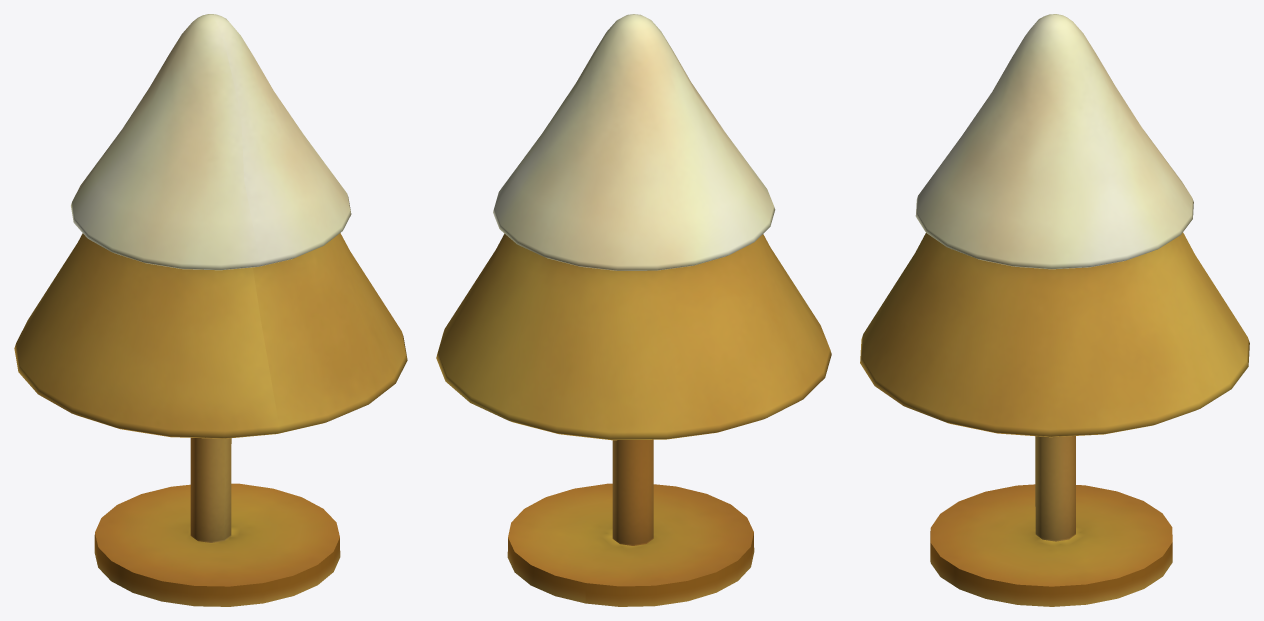
The picture shows the model from 3 angles, left to right: view 1: azimuth 30°, elevation 25°; view 2: azimuth 150°, elevation 25°; view 3: azimuth 270°, elevation 25°; orthographic projection.
Parts seen in each view (by area): view 1: V5 Christmas Collection2.11_V5 Christmas Collection2_0.001; view 2: V5 Christmas Collection2.11_V5 Christmas Collection2_0.001; view 3: V5 Christmas Collection2.11_V5 Christmas Collection2_0.001.
Part boxes in pixels (<box>): V5 Christmas Collection2.11_V5 Christmas Collection2_0.001: <box>14,14,407,606</box>; V5 Christmas Collection2.11_V5 Christmas Collection2_0.001: <box>436,14,831,606</box>; V5 Christmas Collection2.11_V5 Christmas Collection2_0.001: <box>860,14,1249,606</box>.
Bounding box in the file's own units: 6.44 × 9.75 × 6.4.
1 material, 1 textured.
